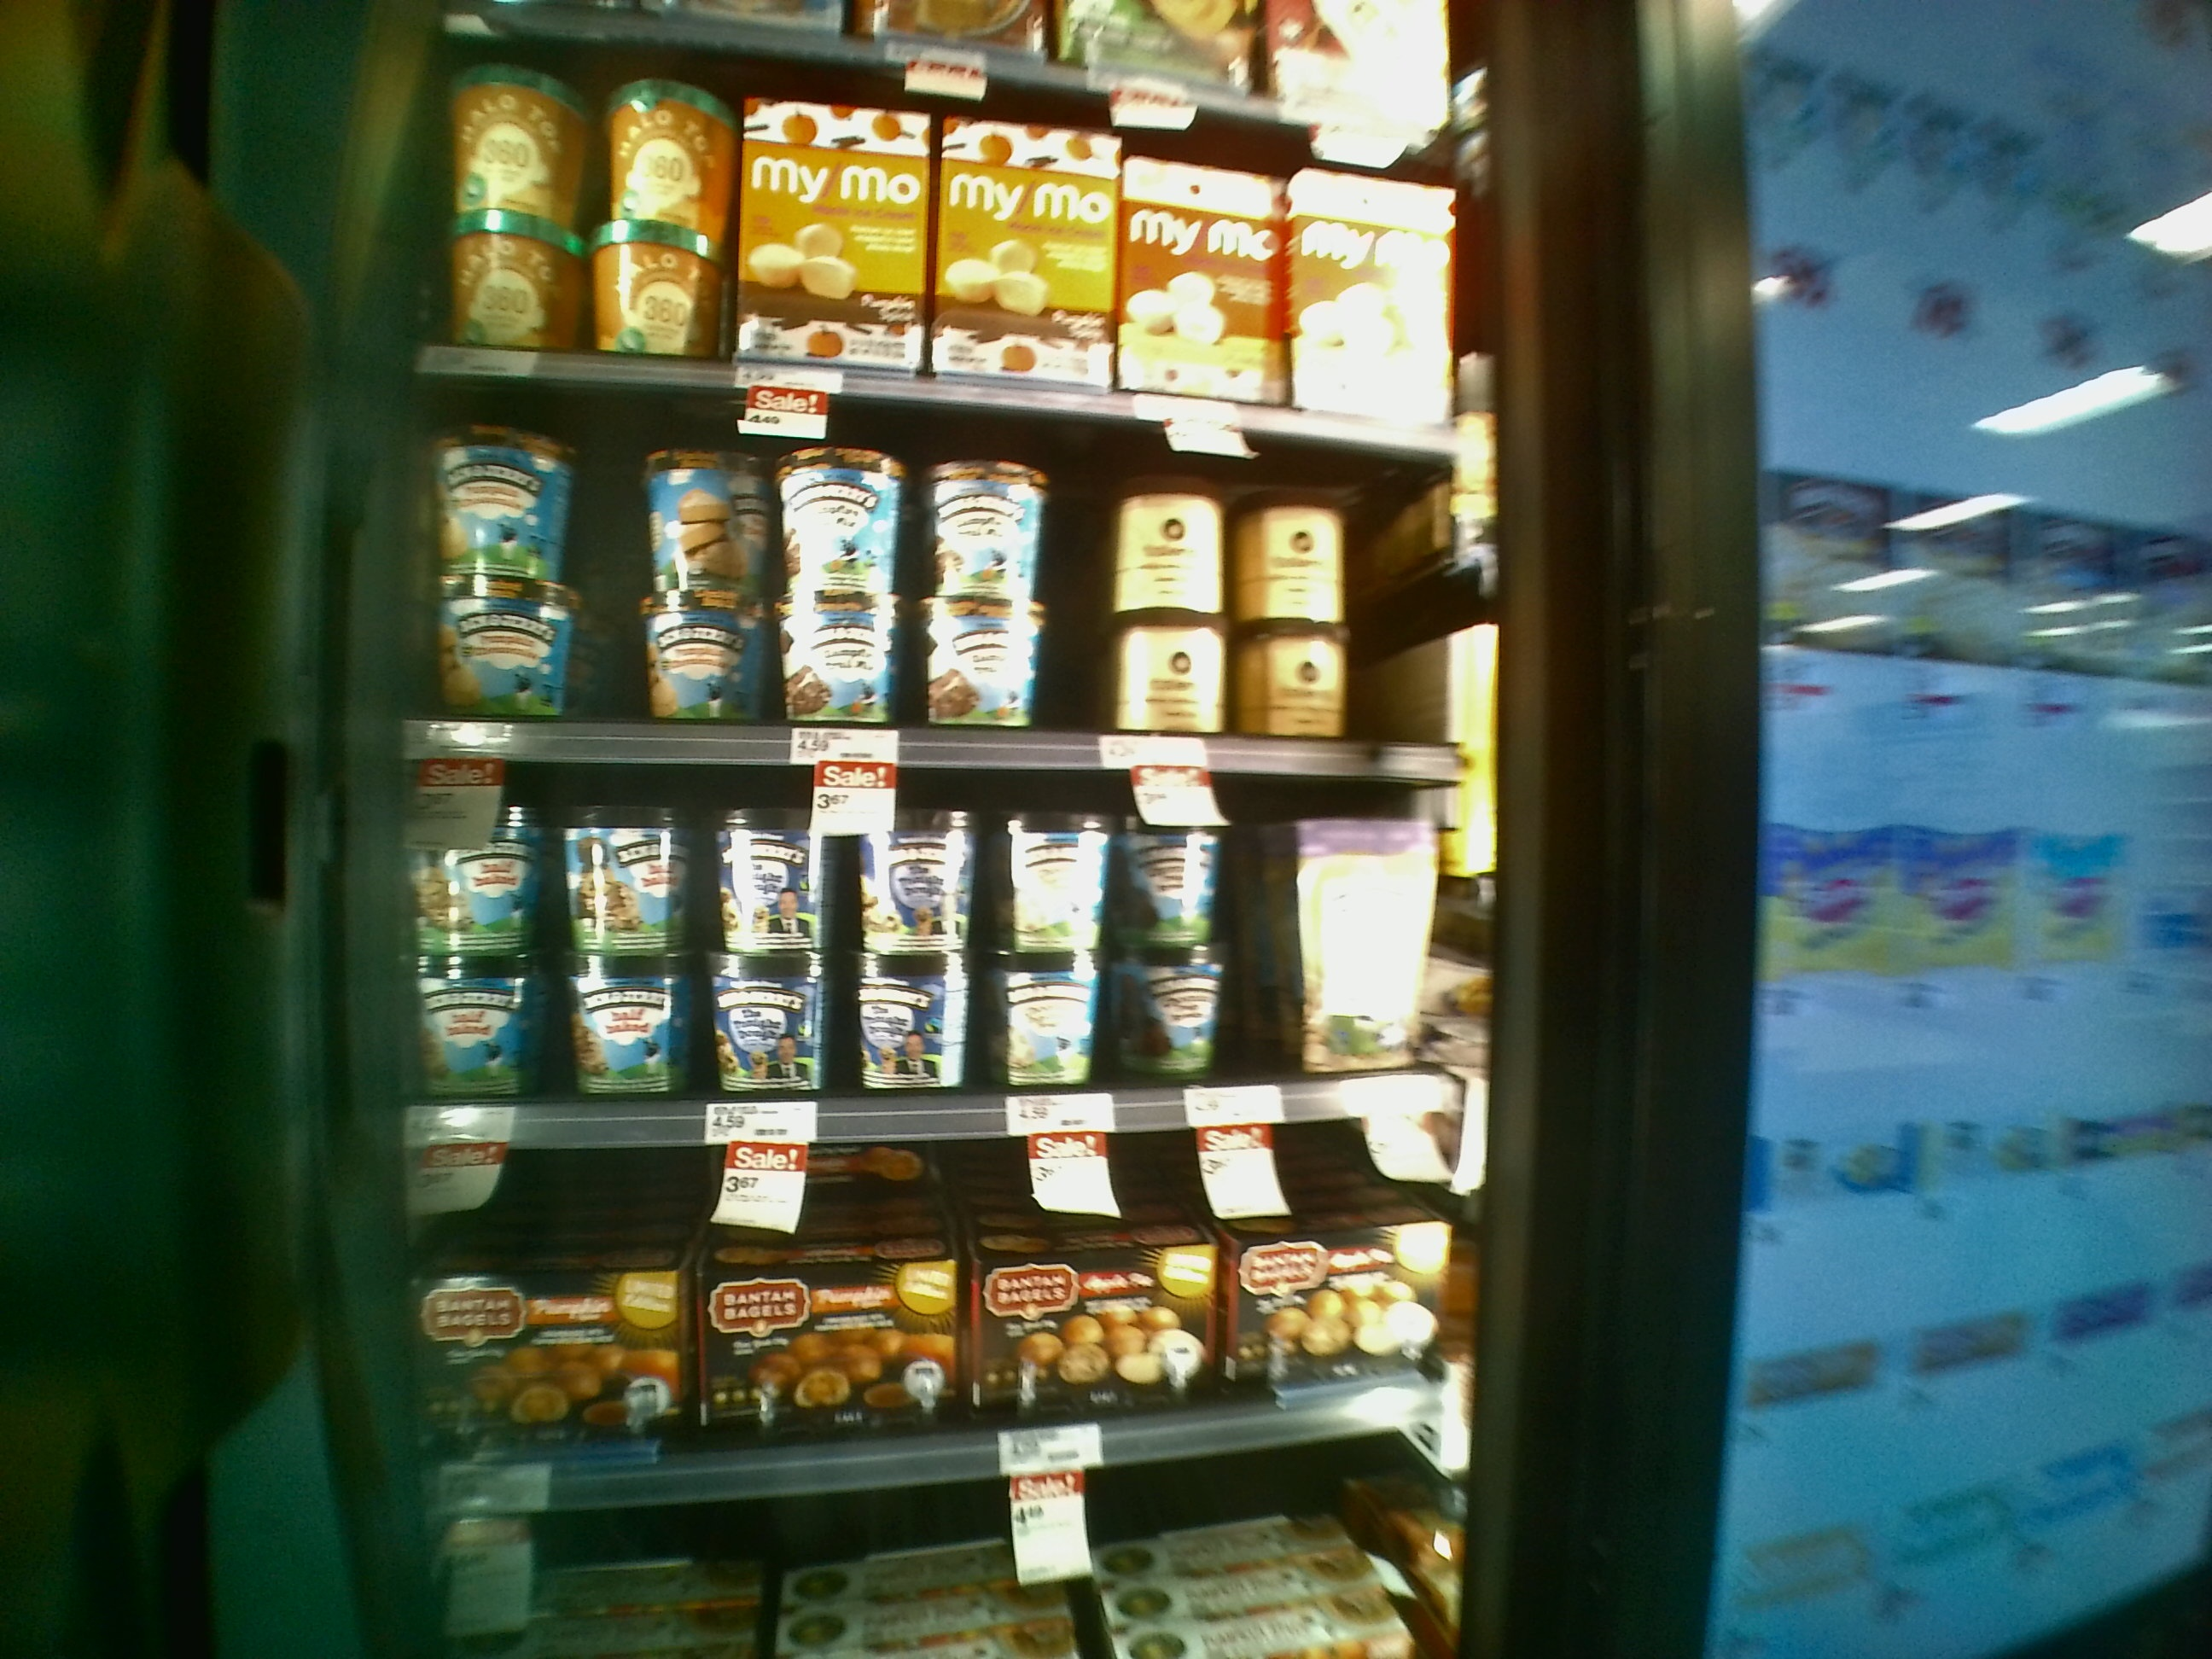shelf: (394, 369, 1489, 786), (354, 755, 1479, 1124), (366, 1129, 1498, 1485)
